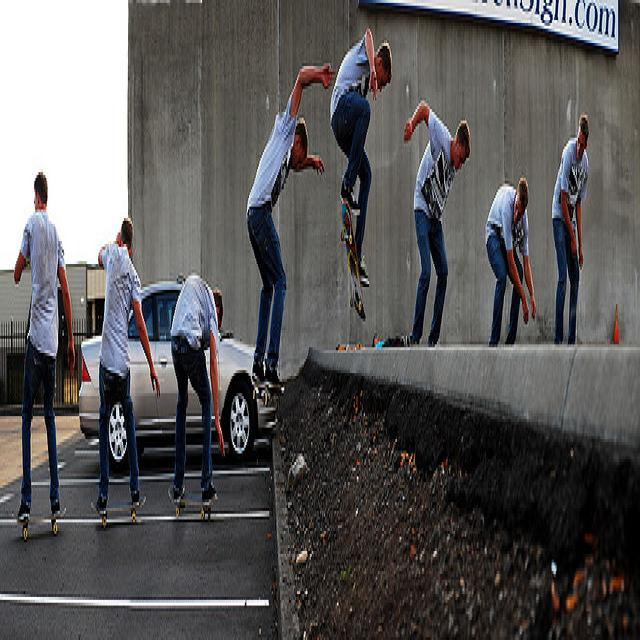Vehicle: (79, 280, 278, 469)
